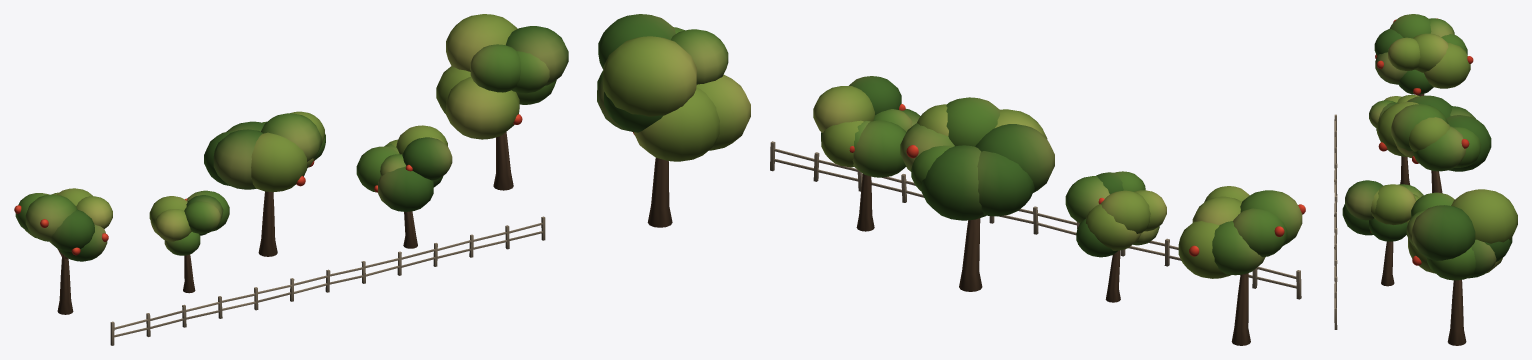
File: golden-orchard.glb
3 views of the same model, side by side, from view 1: azimuth 30°, elevation 25°; view 2: azimuth 150°, elevation 25°; view 3: azimuth 270°, elevation 25° (orthographic). The views are drawn at different scales.
Visible parts, largest first — view 1: golden-orchard; view 2: golden-orchard; view 3: golden-orchard.
Part boxes in pixels (x1,y1,x2,y2): golden-orchard: [14, 14, 568, 345]; golden-orchard: [597, 14, 1305, 345]; golden-orchard: [1334, 14, 1517, 345].
Bounding box in the file's own units: 33.88 × 9.35 × 10.6.
